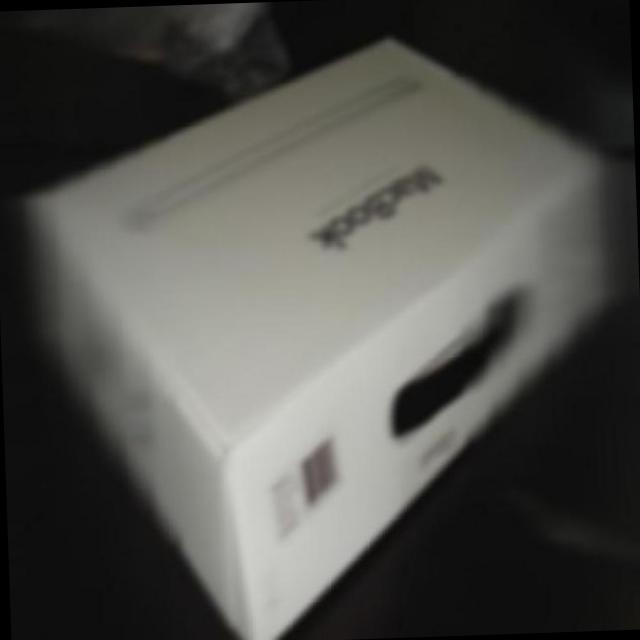box: (24, 21, 626, 640)
